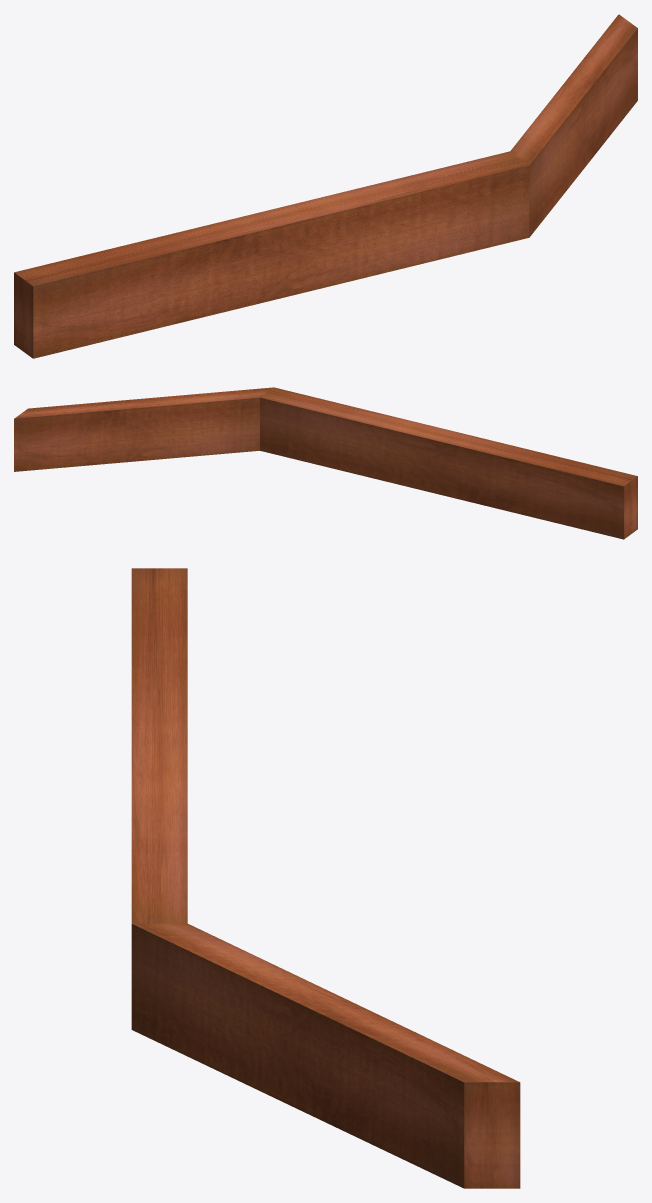
File: wall.obj
3 views of the same model, one above another, from view 1: azimuth 30°, elevation 25°; view 2: azimuth 150°, elevation 25°; view 3: azimuth 270°, elevation 25° (orthographic). The views are drawn at different scales.
Parts seen in each view (by area): view 1: Cube; view 2: Cube; view 3: Cube.
Part boxes in pixels (<box>): Cube: <box>14,14,637,358</box>; Cube: <box>14,387,637,539</box>; Cube: <box>131,568,520,1188</box>.
Bounding box in the file's own units: 12.12 × 1.17 × 3.87.
